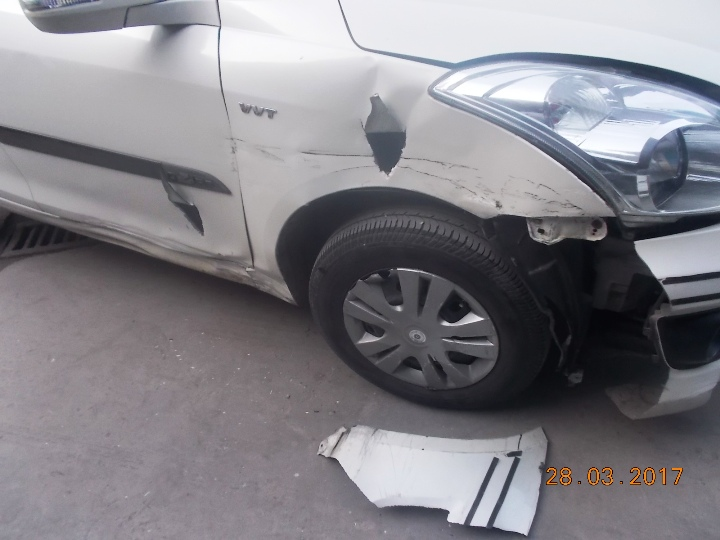Large_tear_or_damage: (482, 200, 677, 421)
Tear: (353, 84, 416, 177), (165, 190, 225, 240)
